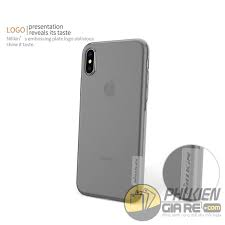iphone: (73, 37, 151, 202)
